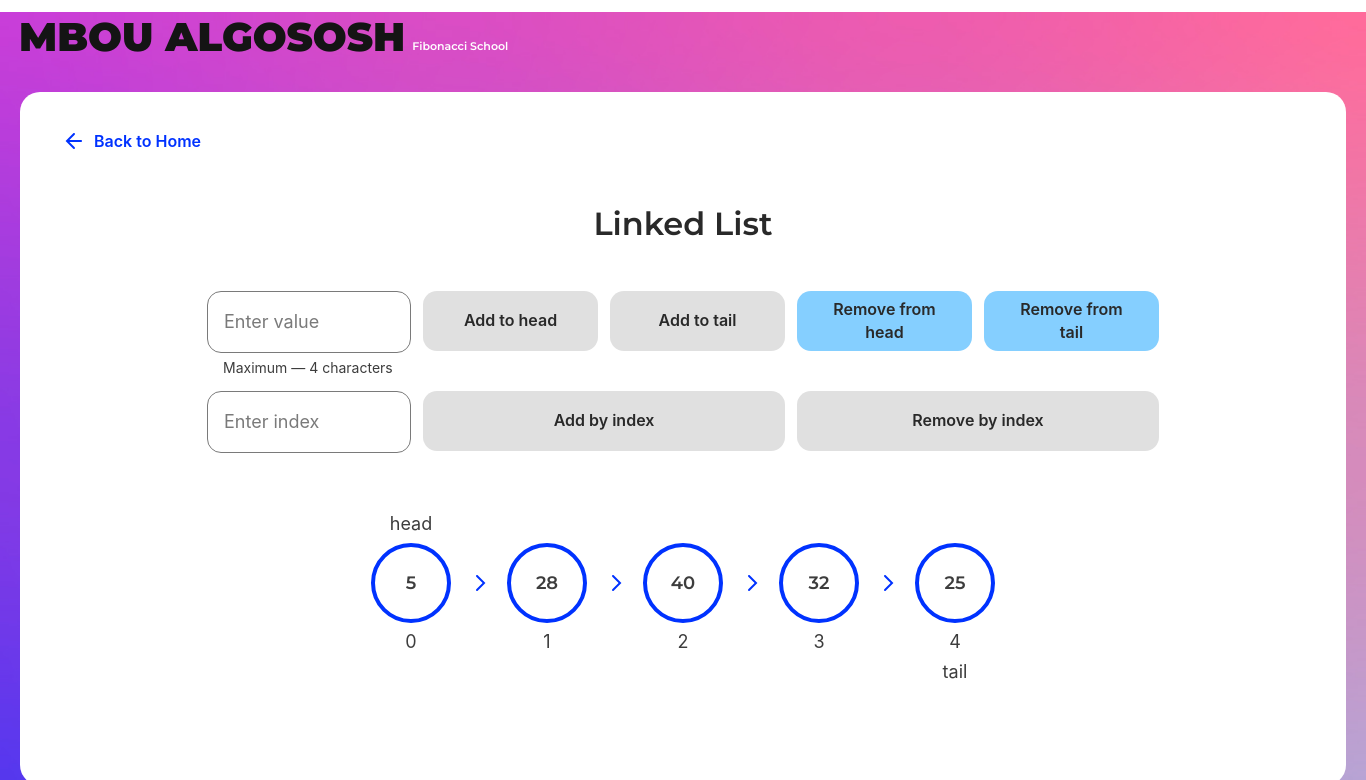
Test: Testing Linked List › Deleting from Tail is done correctly
The width and height of the screenshot is (1366, 780).
Click the button with test id "deleteTailBtn".
click(1072, 321)  # box [984, 291, 1159, 351]
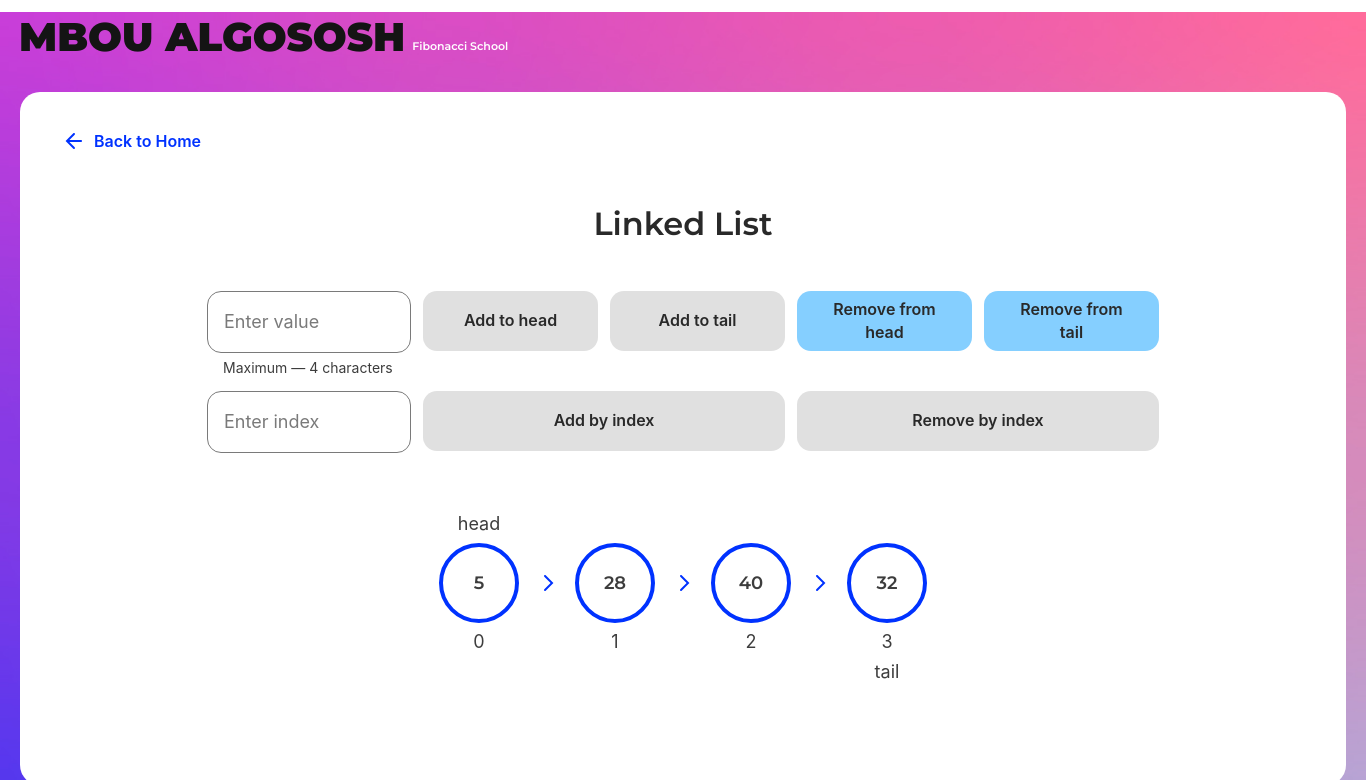
Check: the text "head" is shown, box [458, 513, 500, 535]
Check: the number of elements with test id "circle" is 4, box [439, 543, 519, 623]; [575, 543, 655, 623]; [711, 543, 791, 623]; [847, 543, 927, 623]
